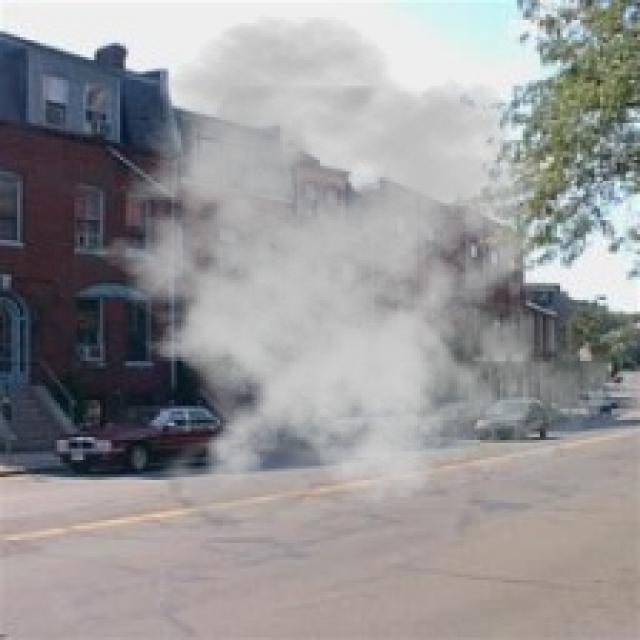Smoke: (71, 14, 612, 537)
